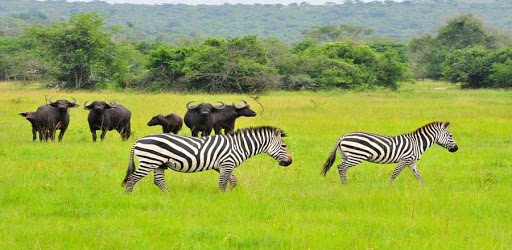buffalo: (82, 97, 136, 145), (32, 95, 79, 147), (204, 98, 259, 135), (181, 99, 227, 142), (146, 110, 184, 137)
zebra: (127, 124, 299, 205), (320, 118, 465, 189)
